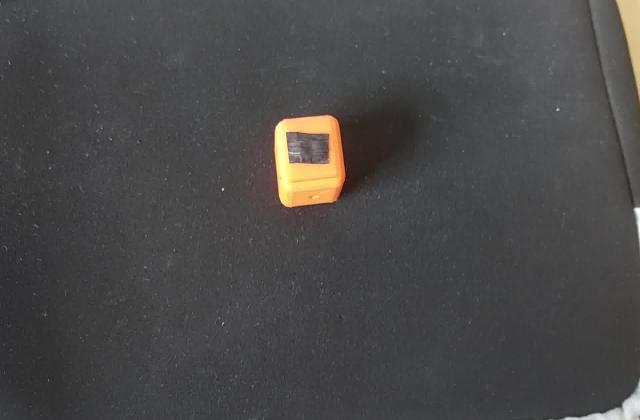black: (281, 126, 335, 168)
sticker: (269, 109, 350, 212)
